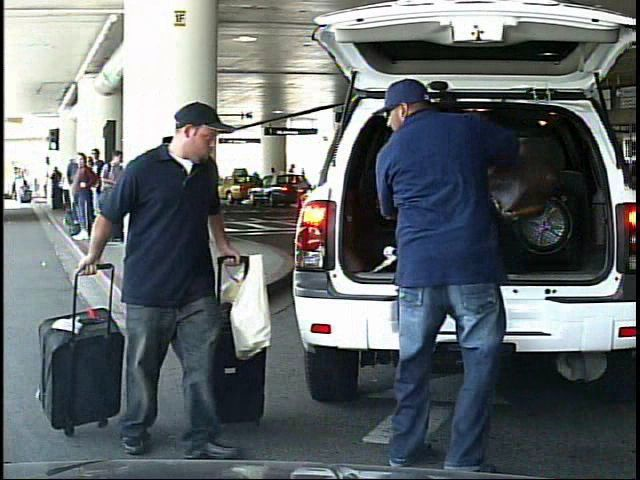person: (358, 74, 544, 476), (101, 111, 259, 455), (286, 162, 300, 197), (15, 172, 26, 204)
